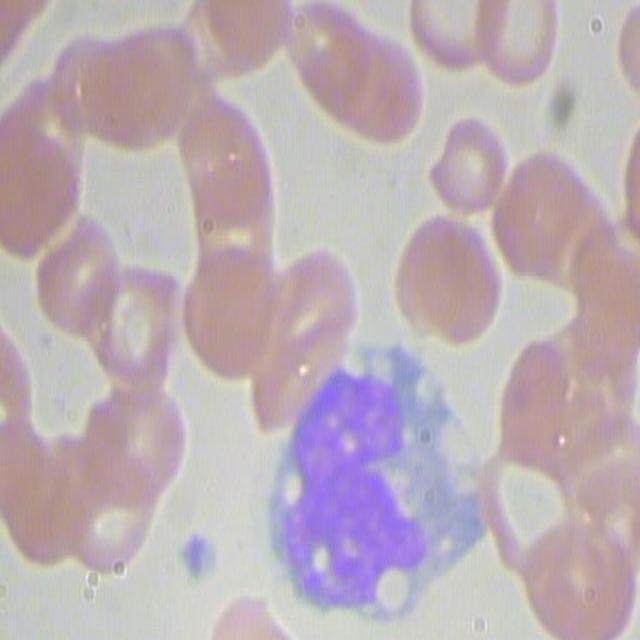RBC: (45, 0, 192, 159), (182, 96, 279, 293), (495, 334, 620, 484), (294, 15, 426, 147), (477, 437, 592, 575), (492, 151, 599, 290), (389, 214, 497, 348), (513, 523, 636, 639), (0, 90, 79, 270), (51, 454, 160, 574), (417, 0, 563, 87), (177, 259, 277, 381), (86, 268, 182, 394), (263, 244, 360, 366), (84, 381, 186, 492), (33, 212, 119, 339), (175, 1, 285, 99), (429, 108, 511, 230)
WBC: (269, 355, 441, 637)
platelets: (176, 527, 218, 587)
